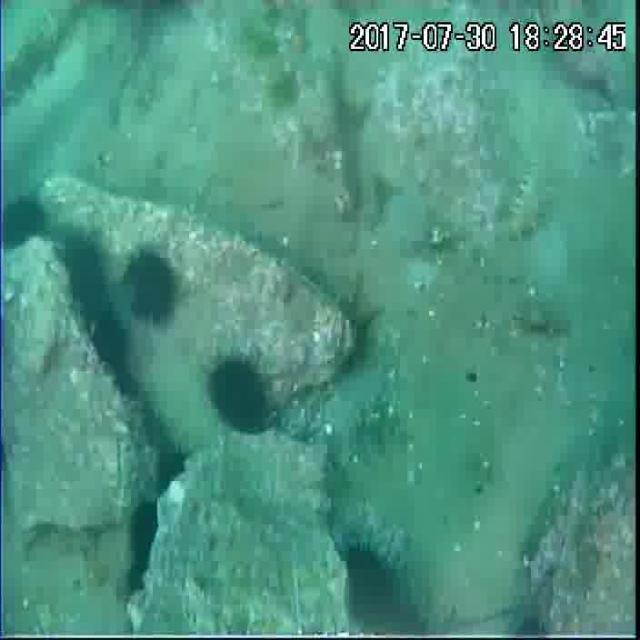echinus: (202, 352, 267, 429), (57, 234, 111, 316), (119, 250, 178, 323), (124, 500, 171, 591), (343, 546, 400, 621), (88, 309, 135, 380), (1, 192, 49, 251), (151, 444, 194, 496)
